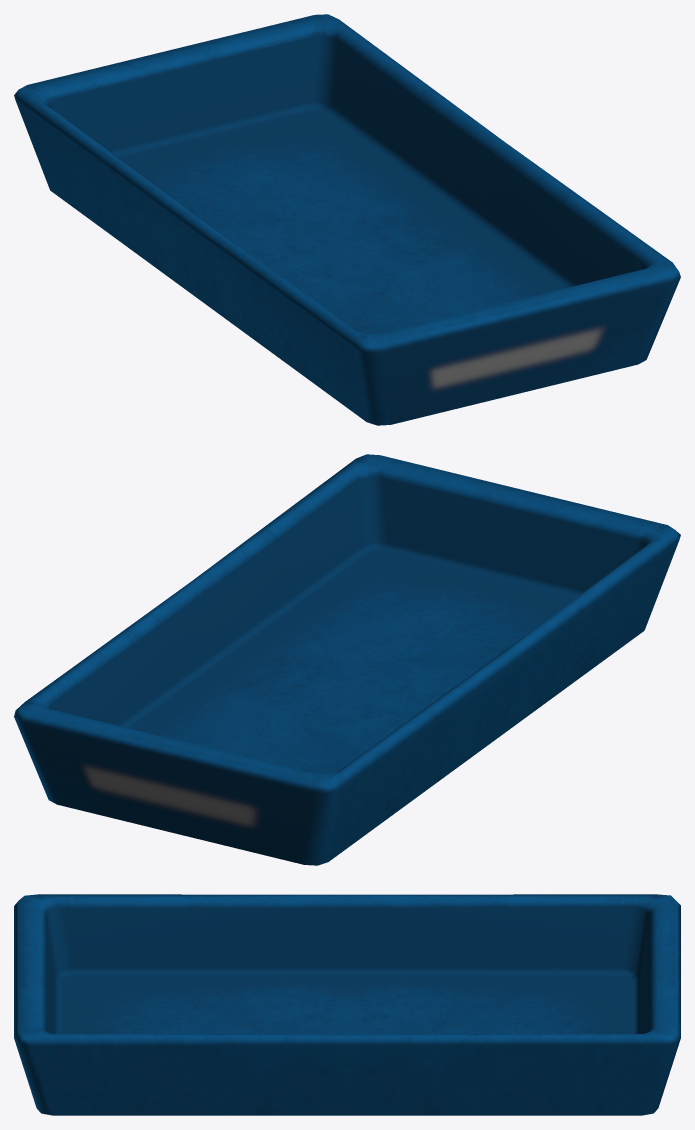
Rendered from SM_Tray_2.fbx.
3 views of the same model, one above another, from view 1: azimuth 30°, elevation 25°; view 2: azimuth 150°, elevation 25°; view 3: azimuth 270°, elevation 25° (orthographic). The views are drawn at different scales.
Parts seen in each view (by area): view 1: SM_Tray_2_LOD0; view 2: SM_Tray_2_LOD0; view 3: SM_Tray_2_LOD0.
Boxes of the visible parts, box(x1,y1,x2,y2) form: SM_Tray_2_LOD0: box(14, 14, 680, 425); SM_Tray_2_LOD0: box(14, 454, 680, 865); SM_Tray_2_LOD0: box(14, 894, 680, 1115).
Bounding box in the file's own units: 24.64 × 47.29 × 6.79.
1 material, 1 textured.
